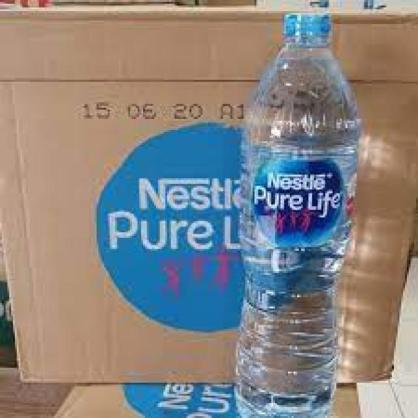bottle: (238, 12, 362, 418)
label: (244, 142, 361, 254)
